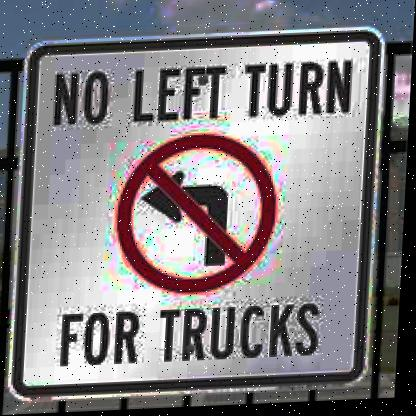No left turn: (109, 131, 286, 299)
